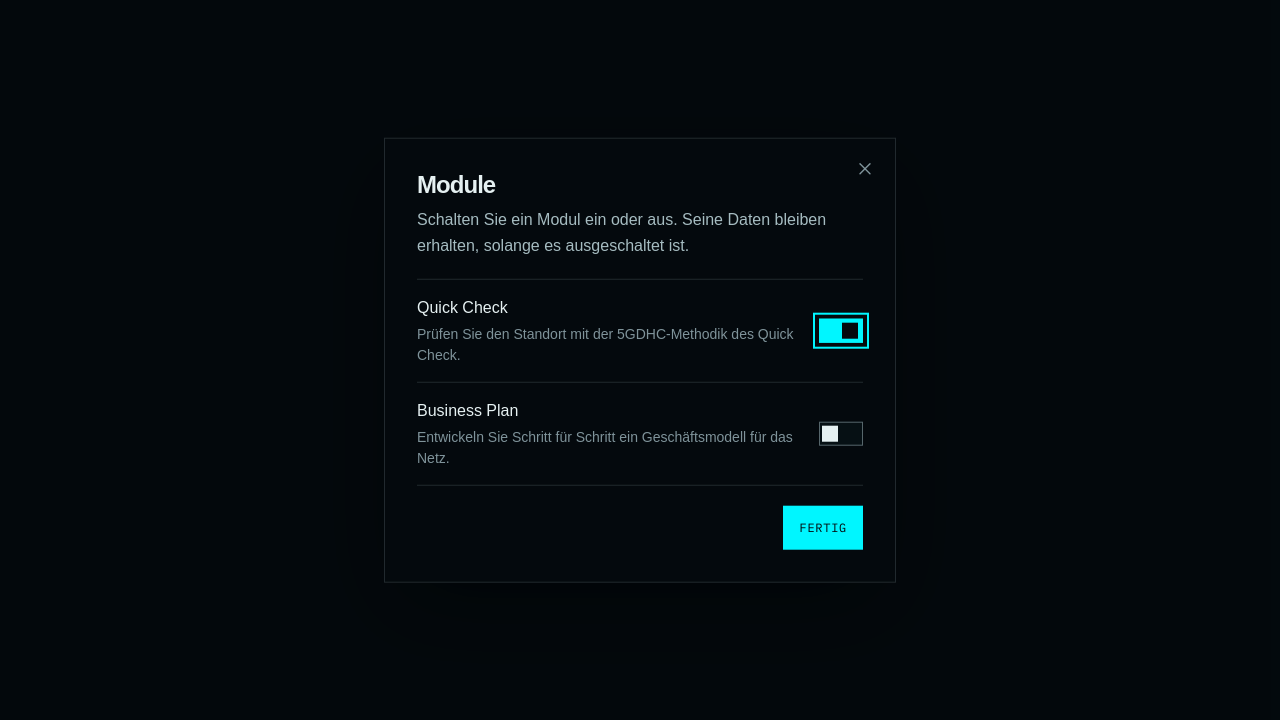
Test case: ModulesDialog (D-01) › turns modules on and keeps at least one (de)
The image size is (1280, 720).
Expected: the 1st switch named "Quick Check" is checked, left=819, top=318, right=863, bottom=342
Step 1. Click the 2nd switch named "Business Plan" → (841, 433), box left=819, top=421, right=863, bottom=445
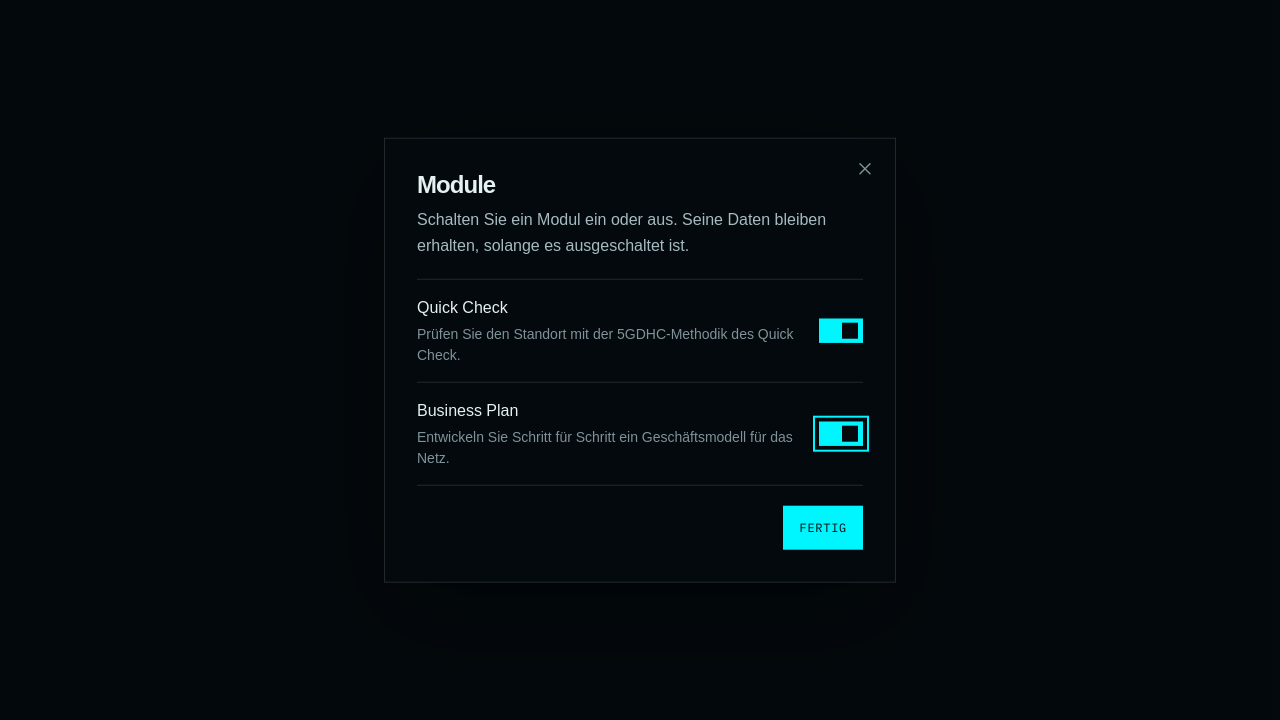
Step 2. Click the 1st switch named "Quick Check" → (841, 330), box left=819, top=318, right=863, bottom=342
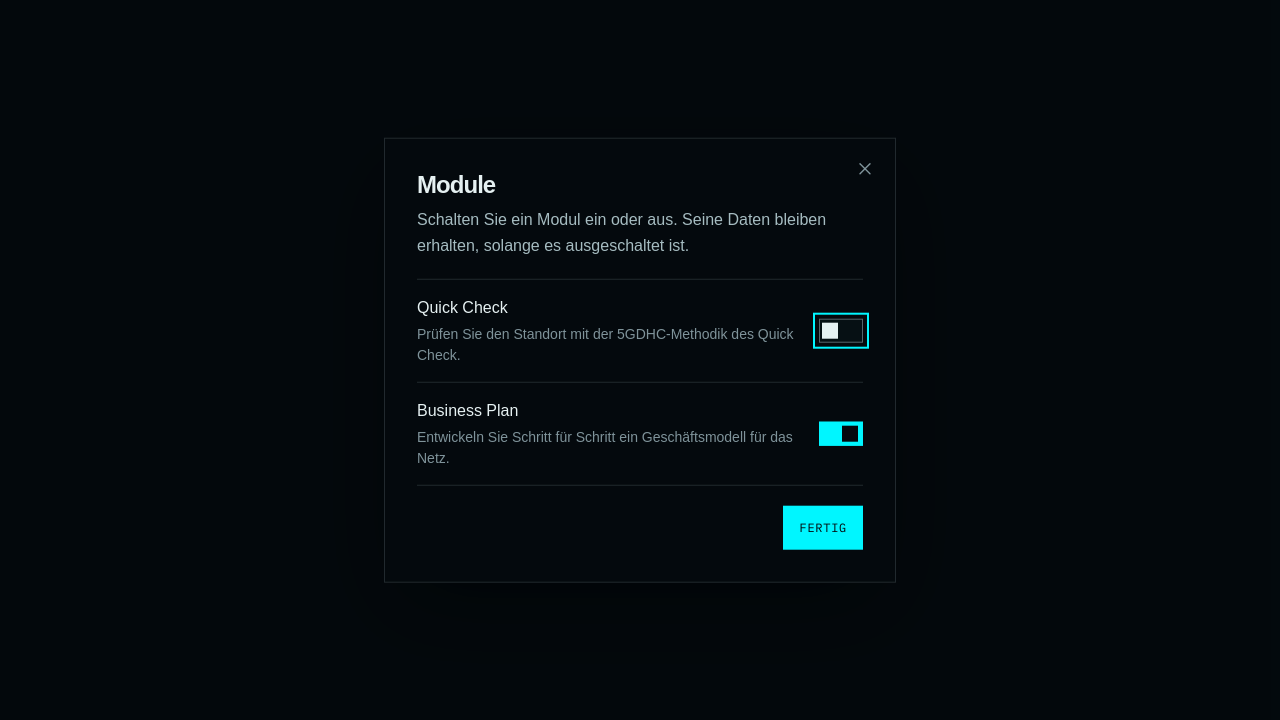
Step 3. Click the 2nd switch named "Business Plan" → (841, 433), box left=819, top=421, right=863, bottom=445
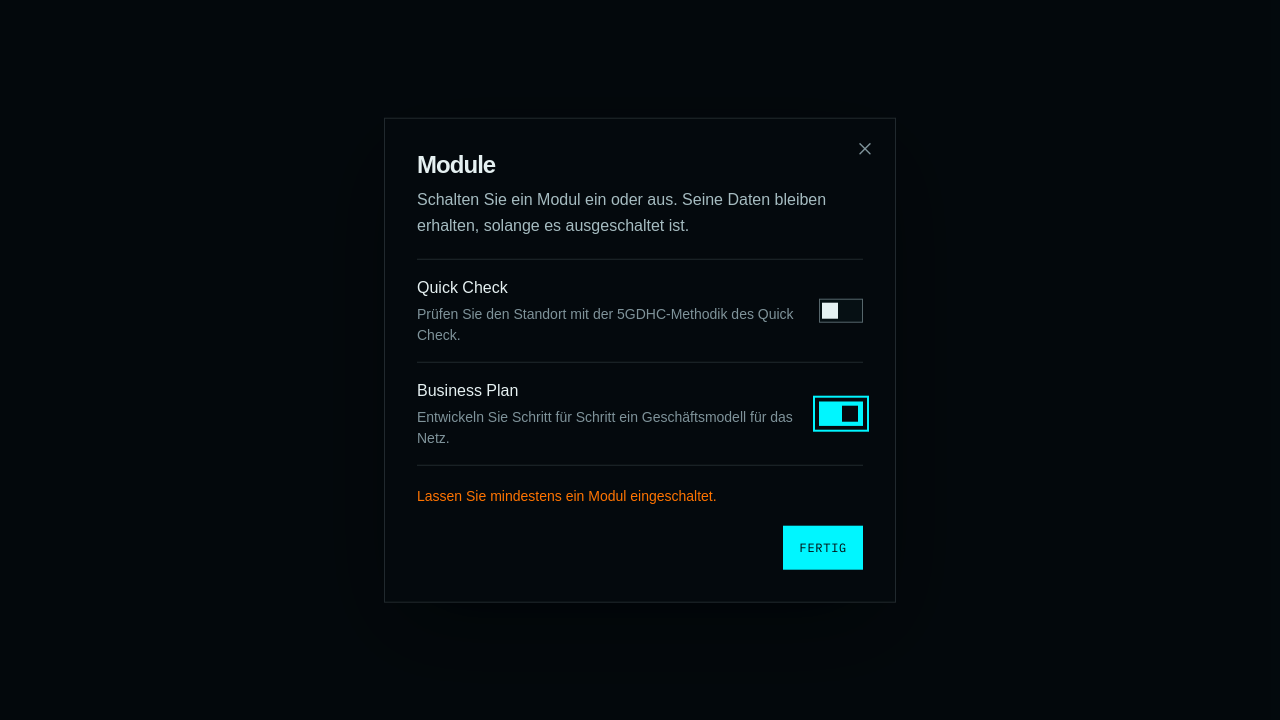
Result: the message reads "Lassen Sie mindestens ein Modul eingeschaltet." at left=417, top=487, right=717, bottom=503
